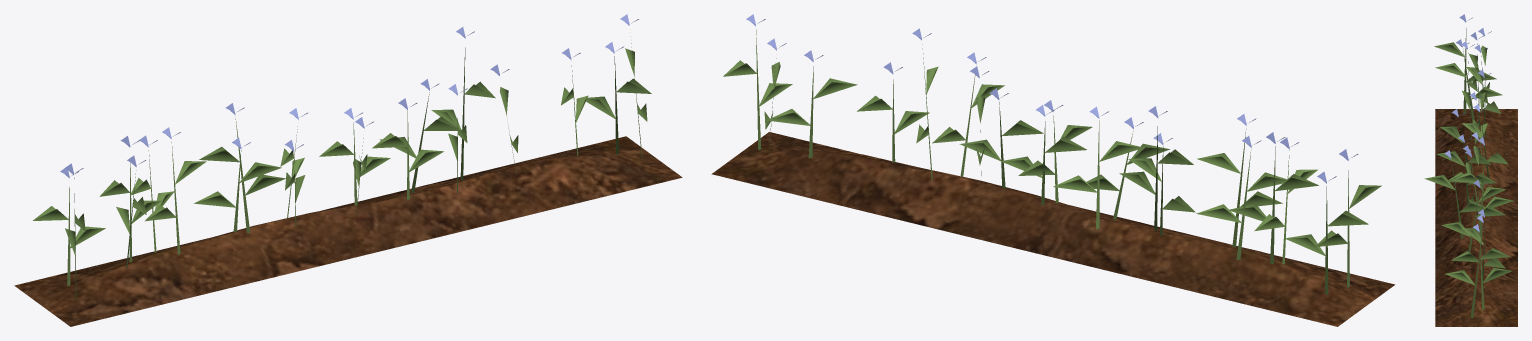
Rendered from flaxRow.glb.
The picture shows the model from 3 angles, left to right: view 1: azimuth 30°, elevation 25°; view 2: azimuth 150°, elevation 25°; view 3: azimuth 270°, elevation 25°; orthographic projection. The views are drawn at different scales.
Parts seen in each view (by area): view 1: part_0, part_1; view 2: part_0, part_1; view 3: part_0, part_1.
Part boxes in pixels (x1,y1,x2,y2): part_0: [14, 136, 682, 326]; part_1: [33, 14, 651, 300]; part_0: [711, 132, 1394, 326]; part_1: [723, 14, 1381, 294]; part_0: [1435, 109, 1517, 326]; part_1: [1424, 14, 1513, 318].
Bounding box in the file's own units: 2.08 × 0.5359 × 0.3737.
2 materials, 1 textured.
